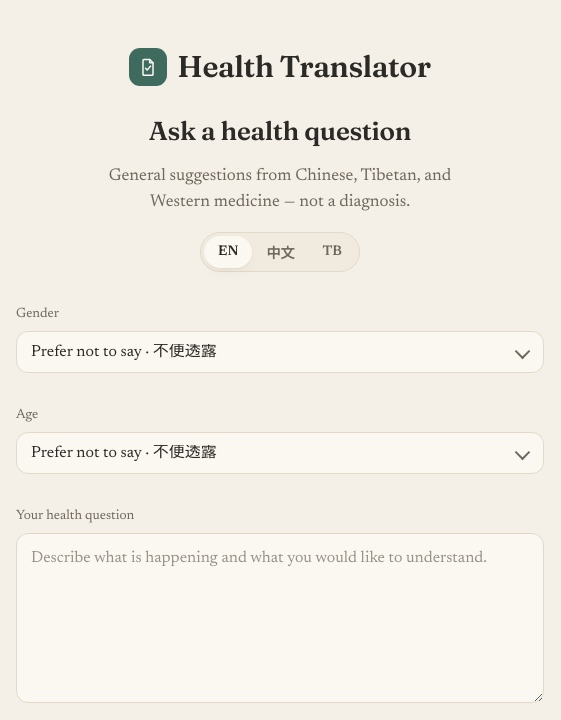
advice page T4 live flow › keeps the frame and suppresses schools for a tibetan-output refusal
Replace the text in the text box labelled "Your health question" with "How can I sleep better?" at (280,618), box [16,533,544,703]
(page scrolled)
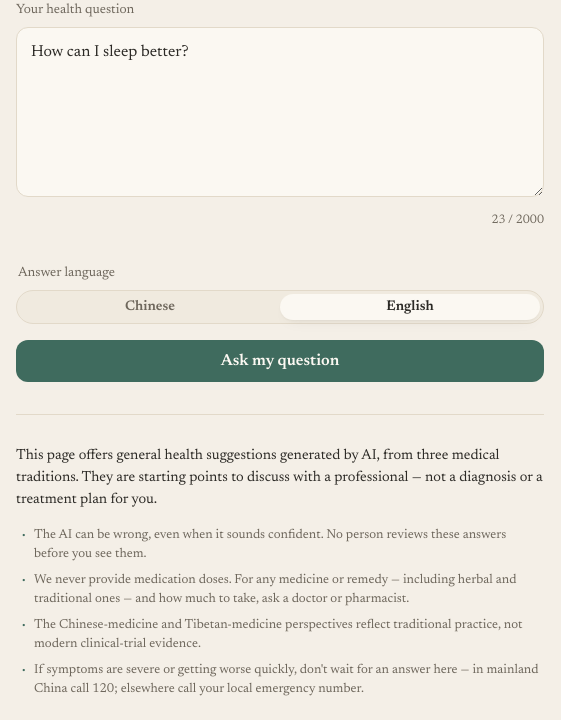
Click the button "Ask my question" at (280,361), box [16,340,544,382]
(page scrolled)
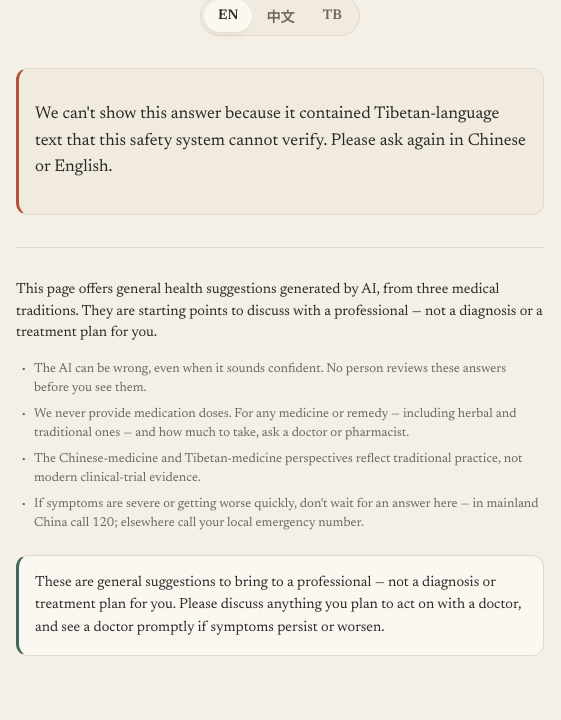
Check: the number of elements with test id "advice-disclaimer" is 5, box [16,279,544,344]; [16,359,544,398]; [16,404,544,443]; [16,449,544,488]; [16,494,544,533]
Check: the element with test id "advice-refusal" shows "We can't show this answer because it contained Tibetan-language text", box [35,106,526,176]
